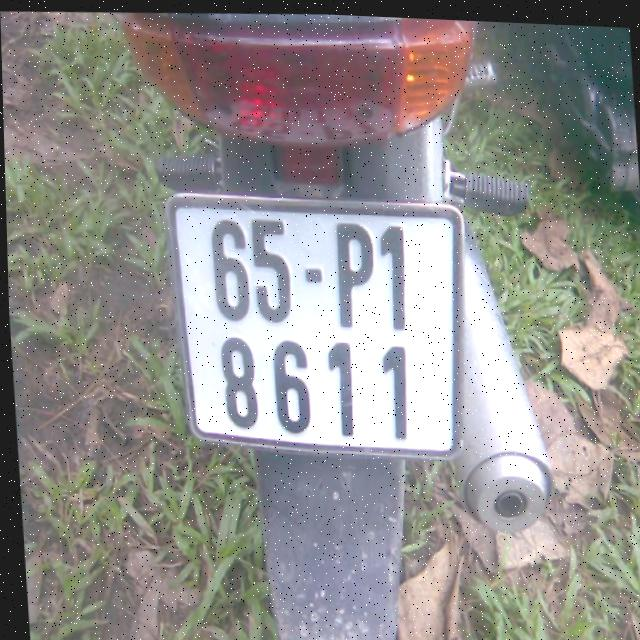motorcycle: (109, 5, 570, 640)
plate: (168, 182, 466, 466)
